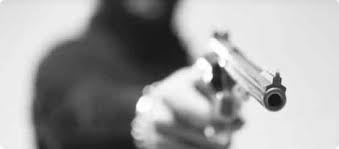gun: (202, 28, 291, 125)
